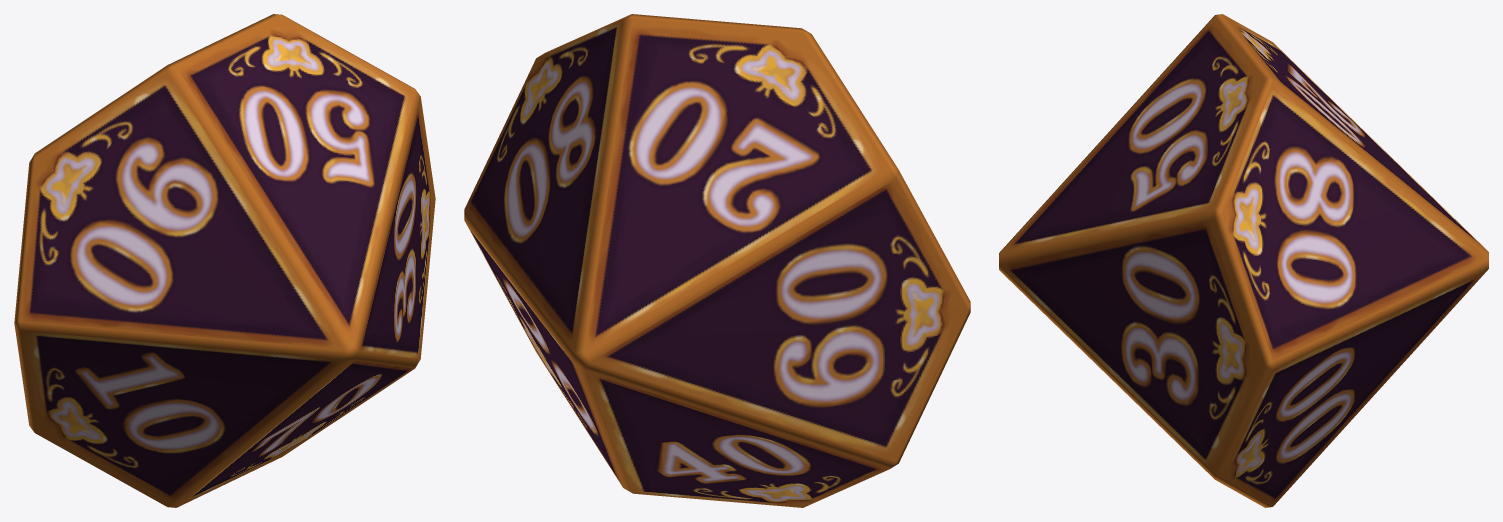
Rendered from d100-urikV2.glb.
3 renders of one model, left to right at view 1: azimuth 30°, elevation 25°; view 2: azimuth 150°, elevation 25°; view 3: azimuth 270°, elevation 25°, orthographic. The views are drawn at different scales.
Visible parts, largest first — view 1: Mesh_0; view 2: Mesh_0; view 3: Mesh_0.
Part boxes in pixels (bbox=[...]): Mesh_0: bbox=[14, 14, 435, 507]; Mesh_0: bbox=[464, 14, 970, 507]; Mesh_0: bbox=[999, 14, 1488, 507].
Size of the model in its own units: 175 by 166 by 172.
Materials: 1 (1 with a texture image).
